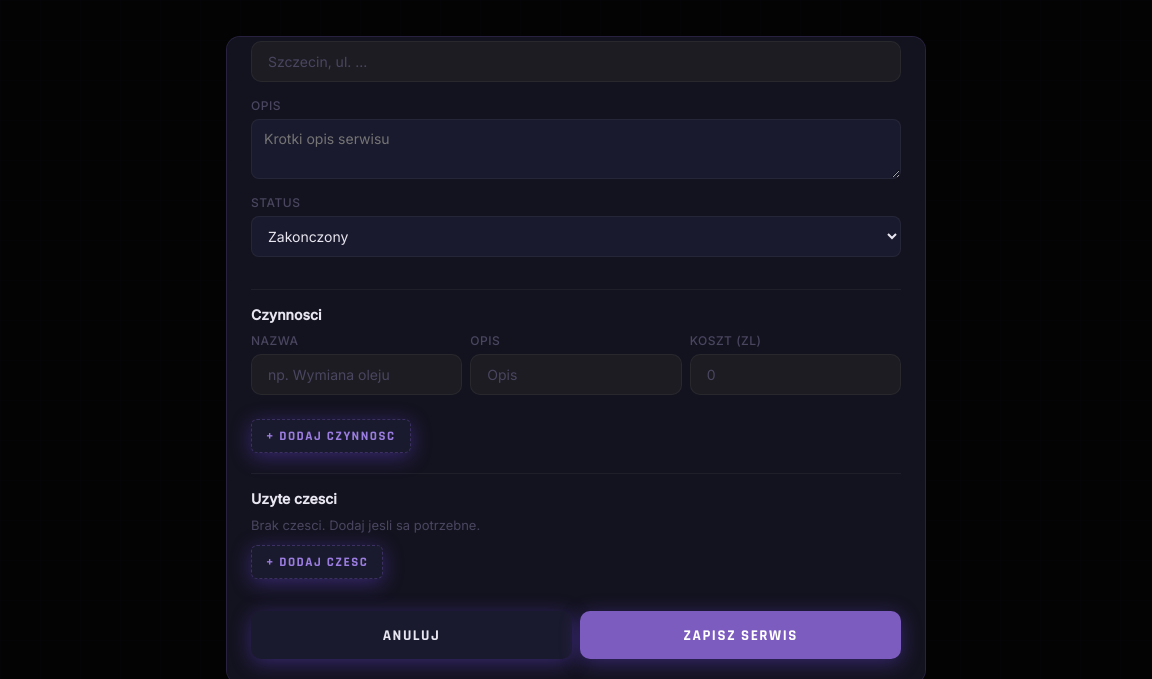
Test: ServiceForm › dodaje i usuwa czynnosc
(page scrolled)
Click the button "+ Dodaj czynnosc".
click(331, 436)  # box [251,419,410,453]
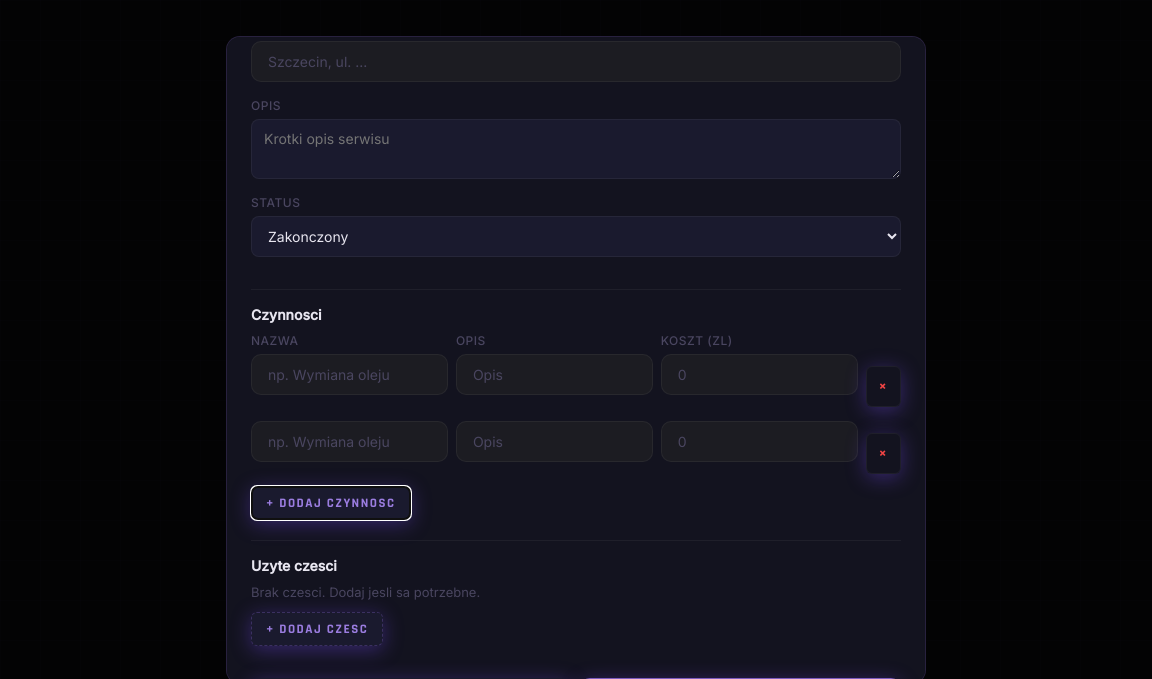
Expected: the number of fields with placeholder "np. Wymiana oleju" is 2, [251,354,448,395]; [251,421,448,462]
Click the button "×" below "Koszt (zl)".
click(883, 386)  # box [866,366,901,407]
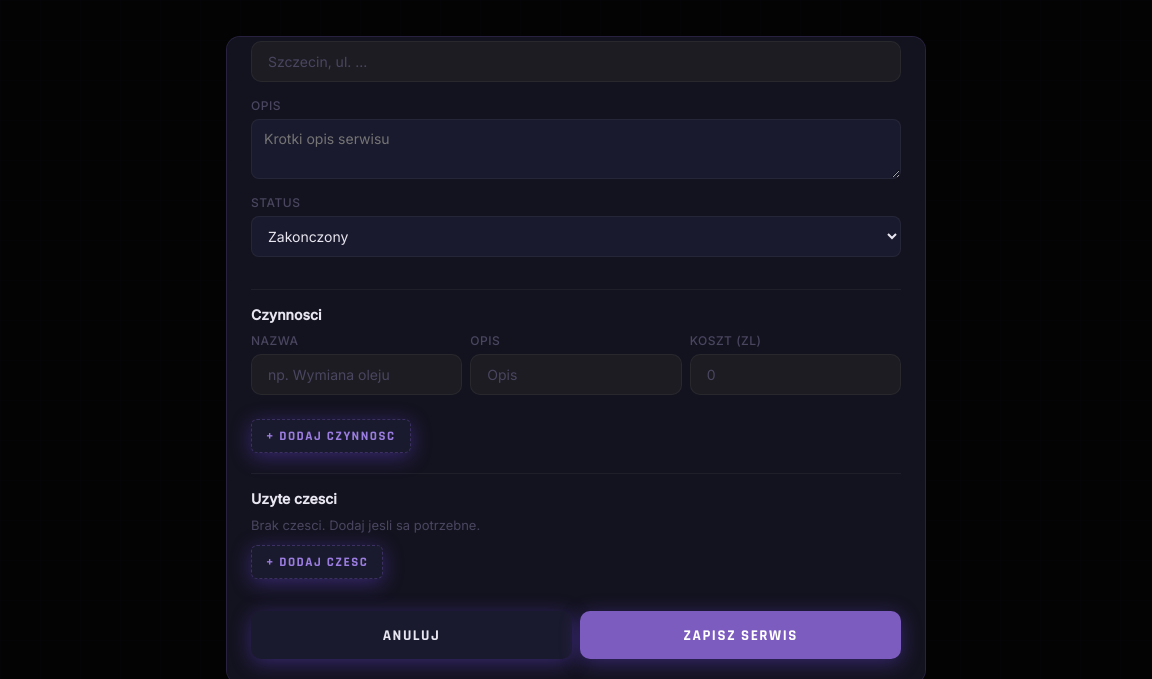
Expected: the number of fields with placeholder "np. Wymiana oleju" is 1, [251,354,462,395]
